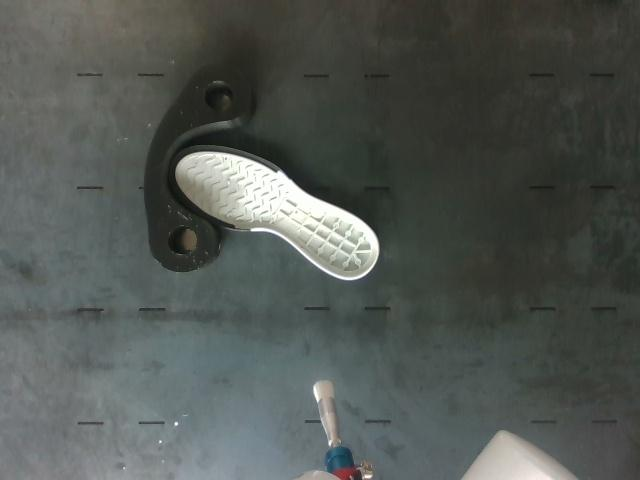shoes: (170, 145, 378, 278)
